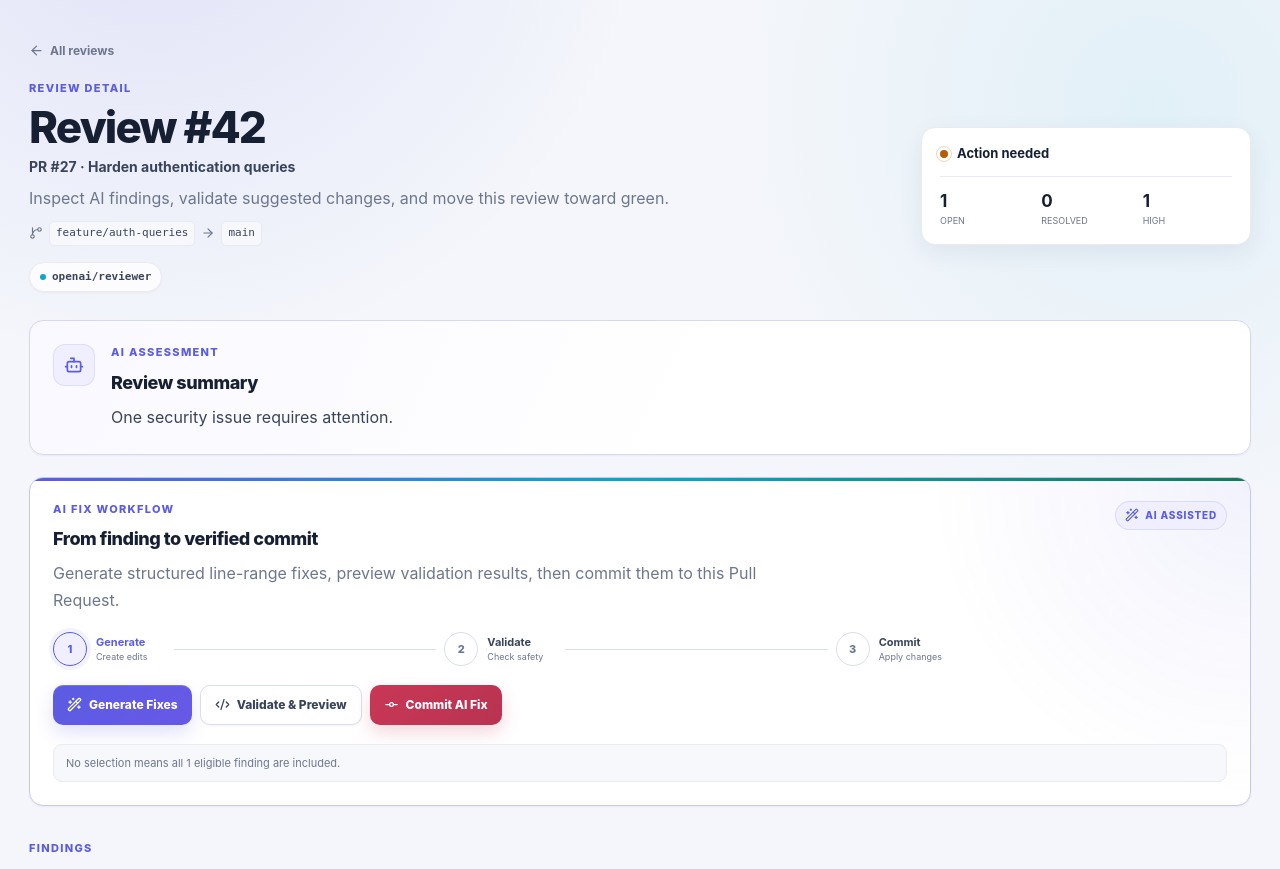
Test: ReviewDetail › loads a review and requests fixes for all eligible findings
Expected: the heading "Review #42" is shown, [29, 100, 265, 154]
Expected: the text "PR #27 · Harden authentication queries" is shown, [29, 158, 296, 175]
Click the button "Generate Fixes": [122, 705] box [53, 685, 192, 725]
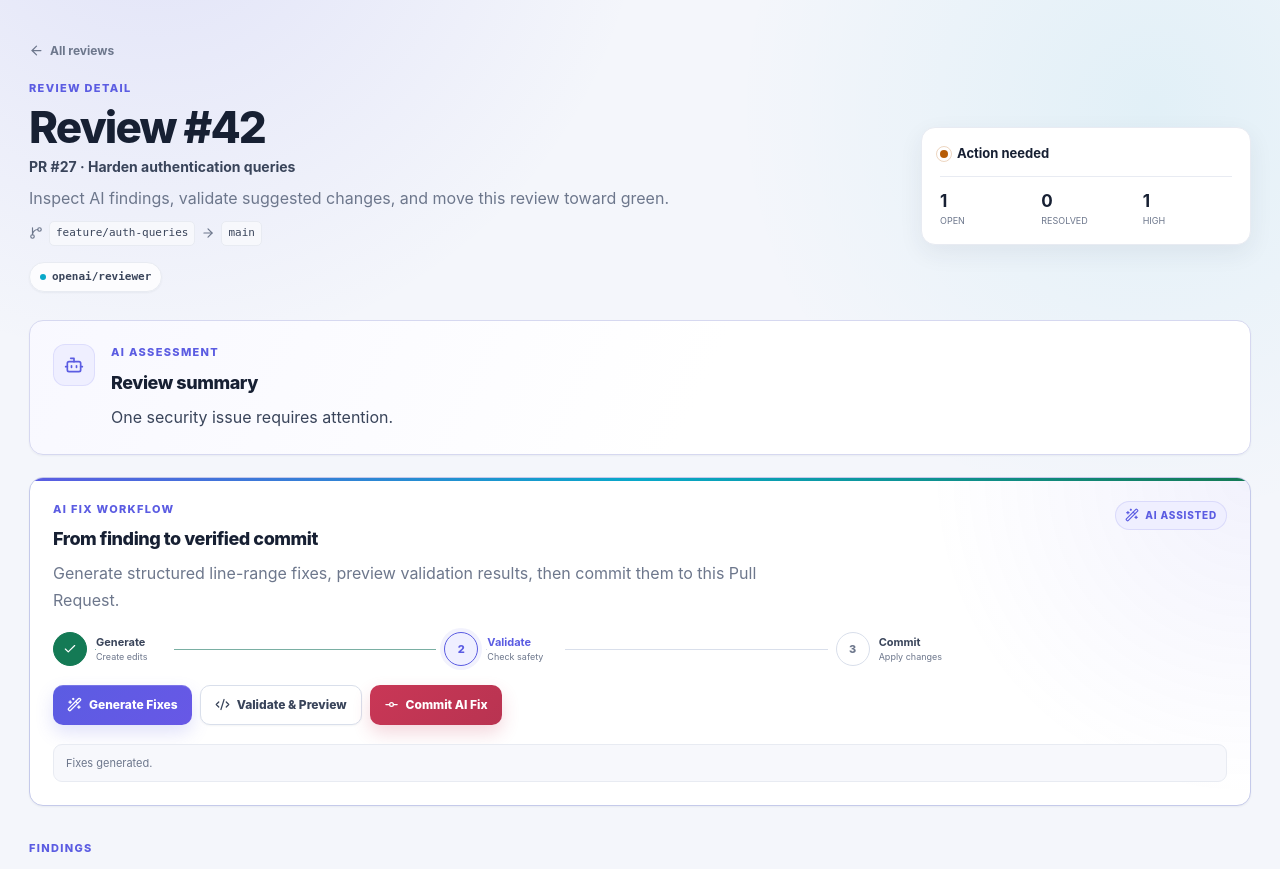
Result: the text "Fixes generated." is shown at [53, 744, 1227, 782]
